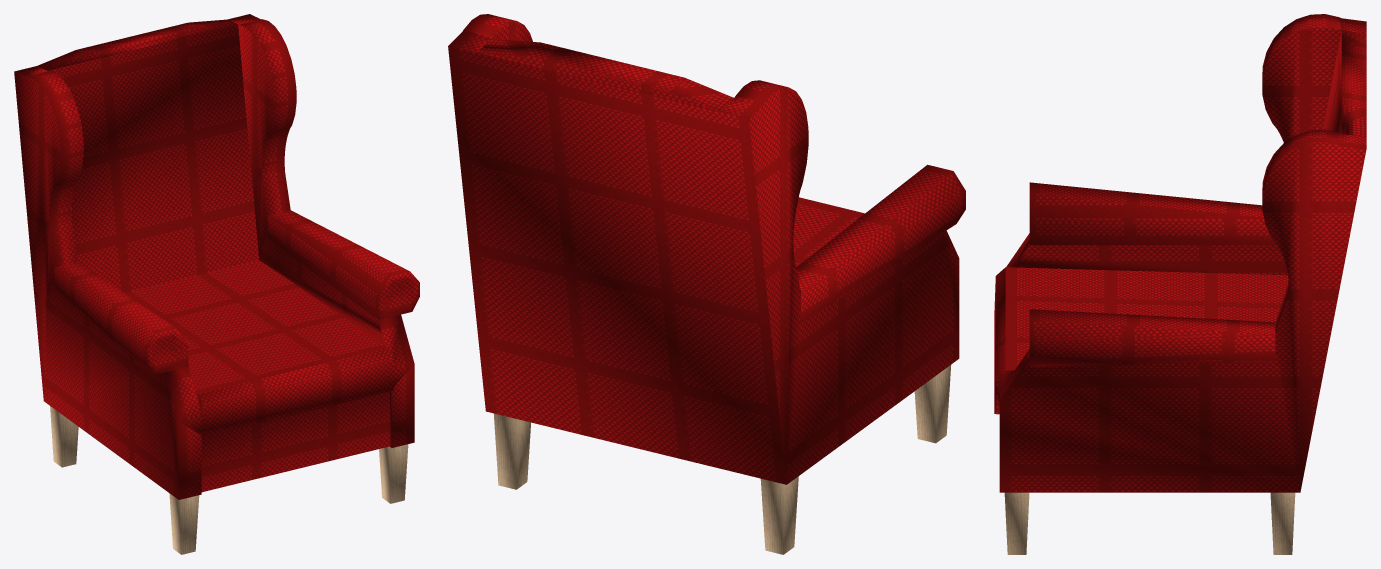
The model's file is armchair_wing.glb.
The picture shows the model from 3 angles, left to right: view 1: azimuth 30°, elevation 25°; view 2: azimuth 150°, elevation 25°; view 3: azimuth 270°, elevation 25°; orthographic projection. The views are drawn at different scales.
Visible parts, largest first — view 1: armchair_wing; view 2: armchair_wing; view 3: armchair_wing.
Boxes of the visible parts, x1,y1,x2,y2 form: armchair_wing: [14, 14, 419, 554]; armchair_wing: [448, 14, 965, 554]; armchair_wing: [994, 14, 1366, 554].
Bounding box in the file's own units: 0.85 × 1.12 × 0.9.
2 materials, 2 textured.
